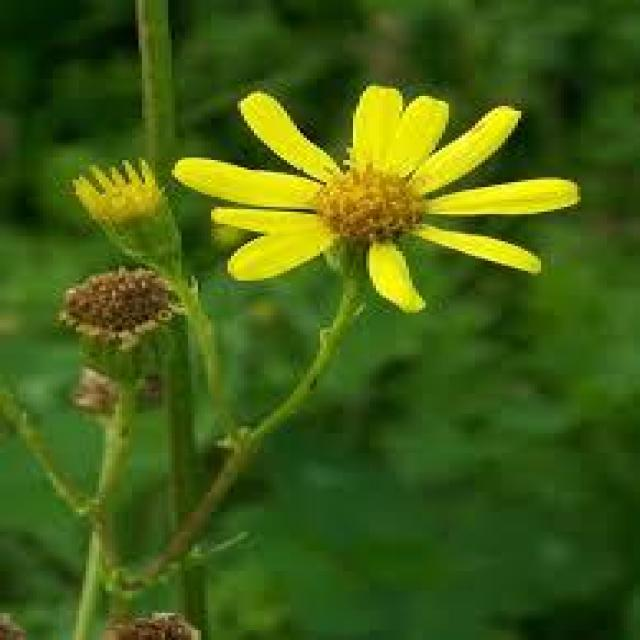organic waste: (170, 75, 585, 284)
